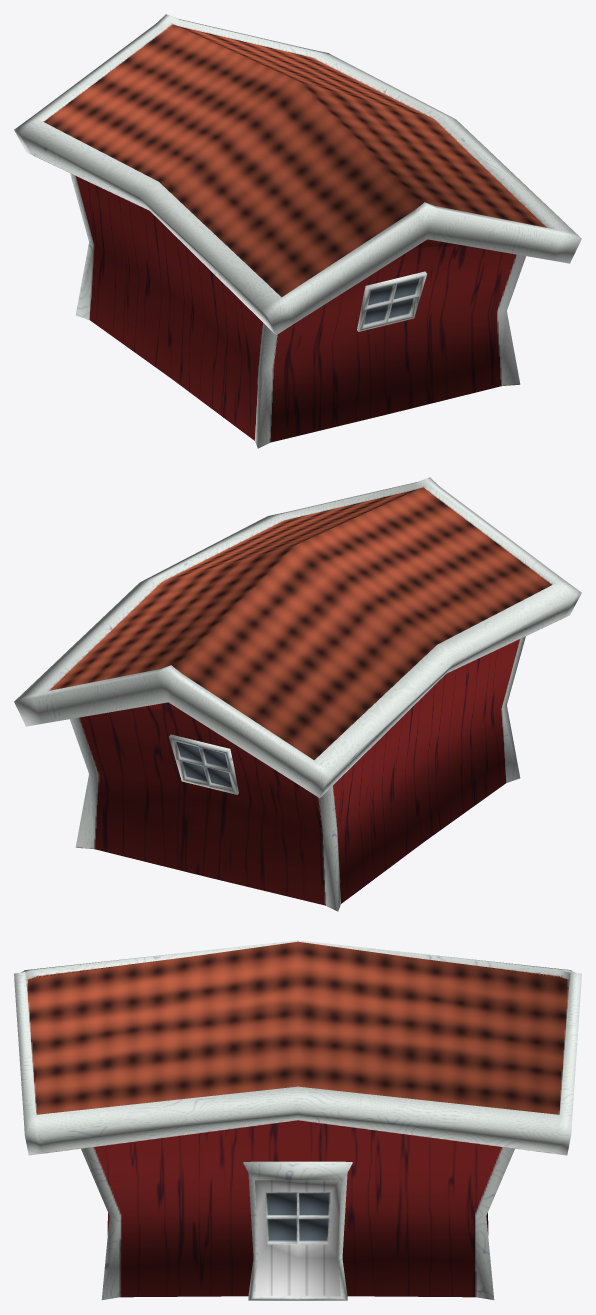
The model's file is Medium House.fbx.
The picture shows the model from 3 angles, top to bottom: view 1: azimuth 30°, elevation 25°; view 2: azimuth 150°, elevation 25°; view 3: azimuth 270°, elevation 25°; orthographic projection. The views are drawn at different scales.
Visible parts, largest first — view 1: Medium House; view 2: Medium House; view 3: Medium House.
Boxes of the visible parts, x1=… form: Medium House: x1=14, y1=14, x2=581, y2=448; Medium House: x1=14, y1=477, x2=581, y2=911; Medium House: x1=14, y1=940, x2=581, y2=1300.
Bounding box in the file's own units: 567 × 460 × 818.
1 material, 1 textured.
